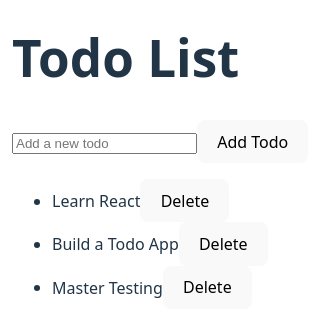
Test: TodoList Component › adds a new todo
The width and height of the screenshot is (332, 336).
Type "New Todo" into the field with placeholder "Add a new todo" at (104, 143), box [12,133,197,154]
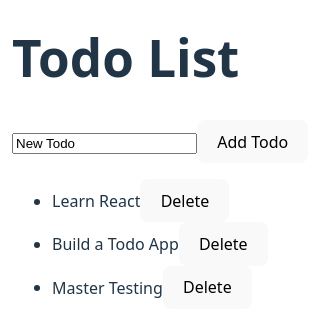
Click the button "Add Todo" at (253, 142), box [197,120,308,163]
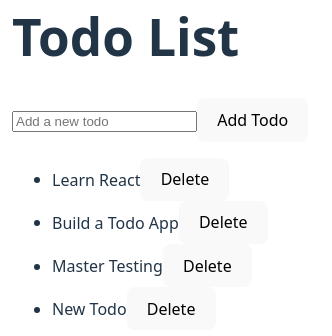
Expected: the list item "New Todo" is shown, [52,298,127,320]
